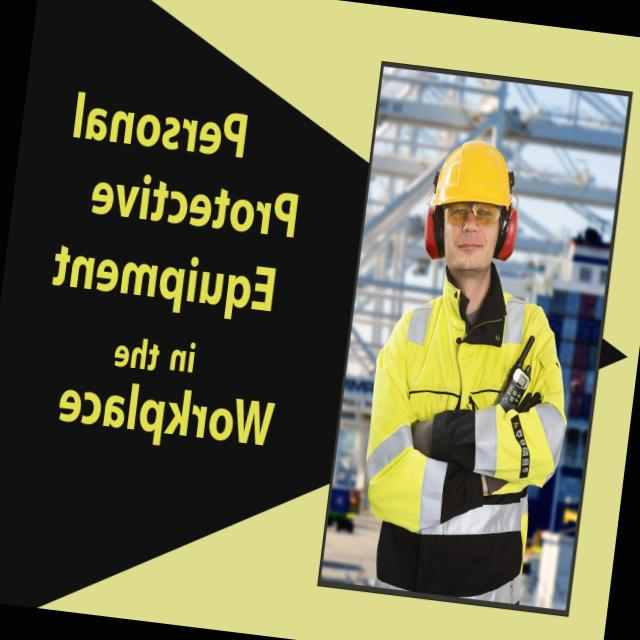goggles: (440, 200, 504, 230)
helmet: (426, 132, 518, 218)
vest: (346, 274, 582, 614)
